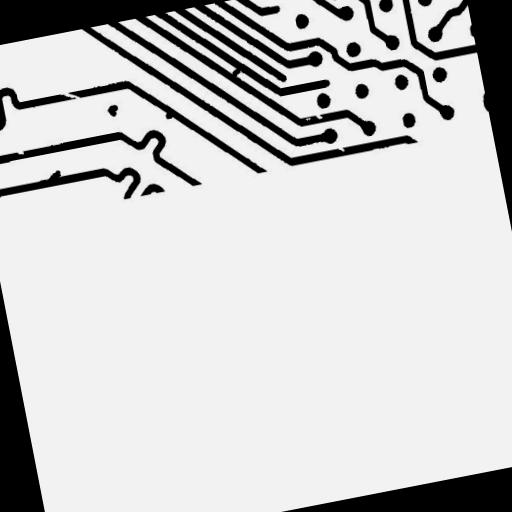copper: (98, 95, 128, 126)
mousebite: (296, 104, 331, 130), (328, 136, 354, 162), (7, 140, 33, 164)
open: (48, 78, 91, 112)
short: (221, 56, 254, 86)
spur: (36, 162, 70, 190), (156, 102, 181, 128)
